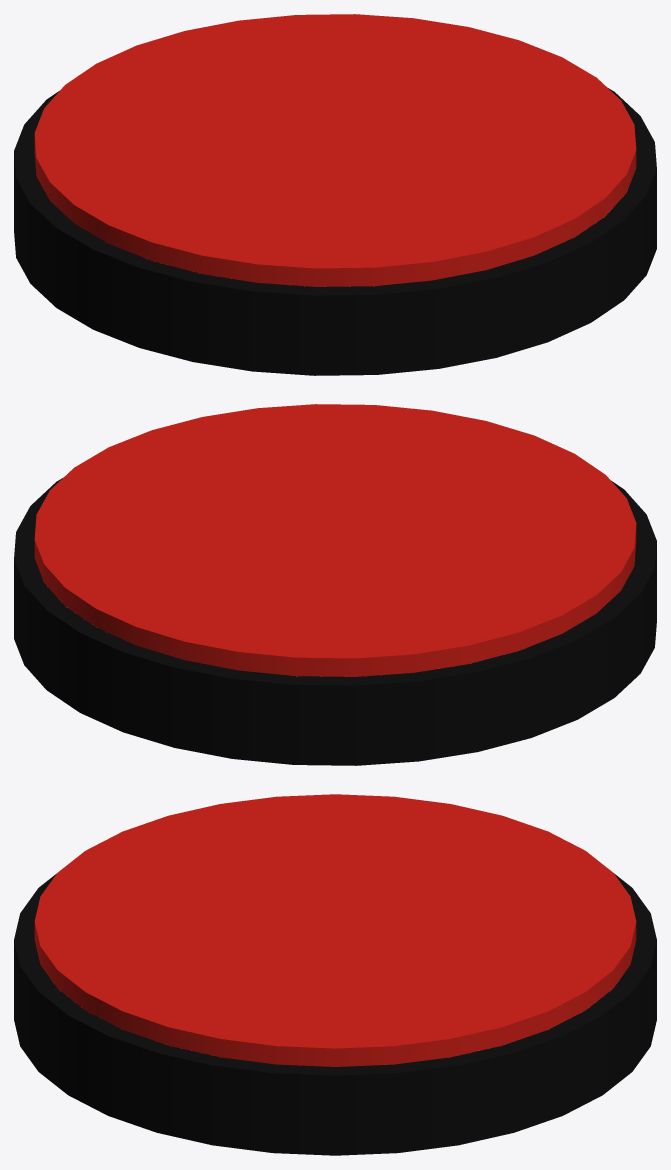
Rendered from Target2-transformed.glb.
3 renders of one model, top to bottom at view 1: azimuth 30°, elevation 25°; view 2: azimuth 150°, elevation 25°; view 3: azimuth 270°, elevation 25°, orthographic.
Parts seen in each view (by area): view 1: Target2; view 2: Target2; view 3: Target2.
Part boxes in pixels (x1,y1,x2,y2): Target2: (14, 14, 656, 375); Target2: (14, 404, 656, 765); Target2: (14, 794, 656, 1155).
Bounding box in the file's own units: 2 × 0.3378 × 2.
